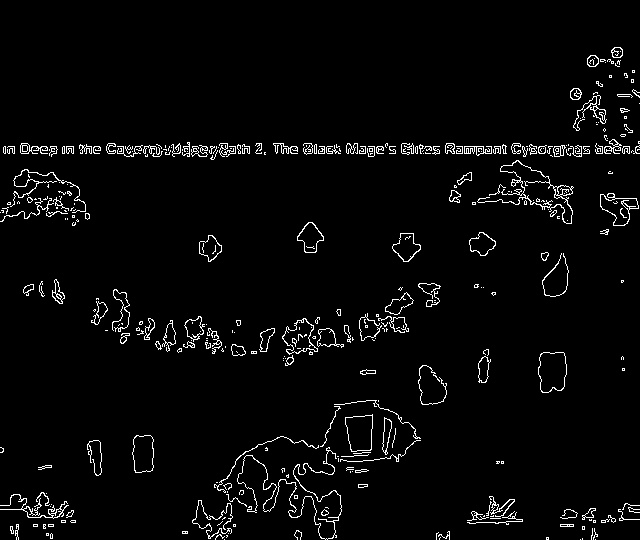rune_box: (132, 196, 551, 292)
